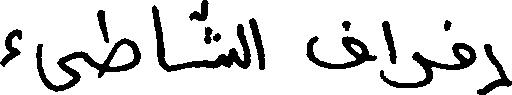X: (0, 24, 80, 94), (307, 16, 366, 73), (97, 5, 138, 82), (204, 0, 232, 73), (480, 39, 511, 94), (397, 47, 431, 92), (153, 0, 168, 76), (382, 16, 395, 91), (454, 38, 475, 74), (251, 13, 263, 74), (238, 15, 249, 73)
